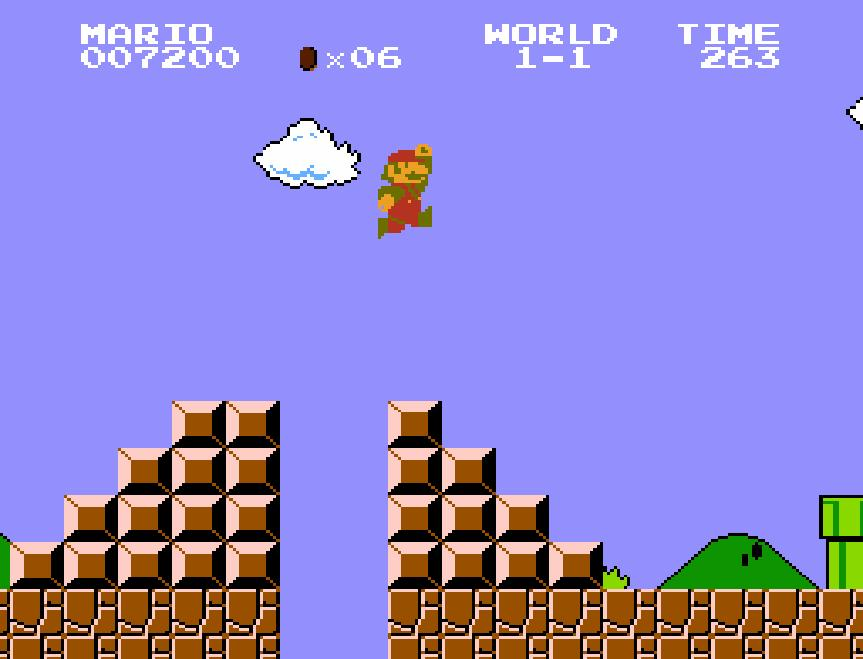big_mario: (376, 142, 434, 240)
